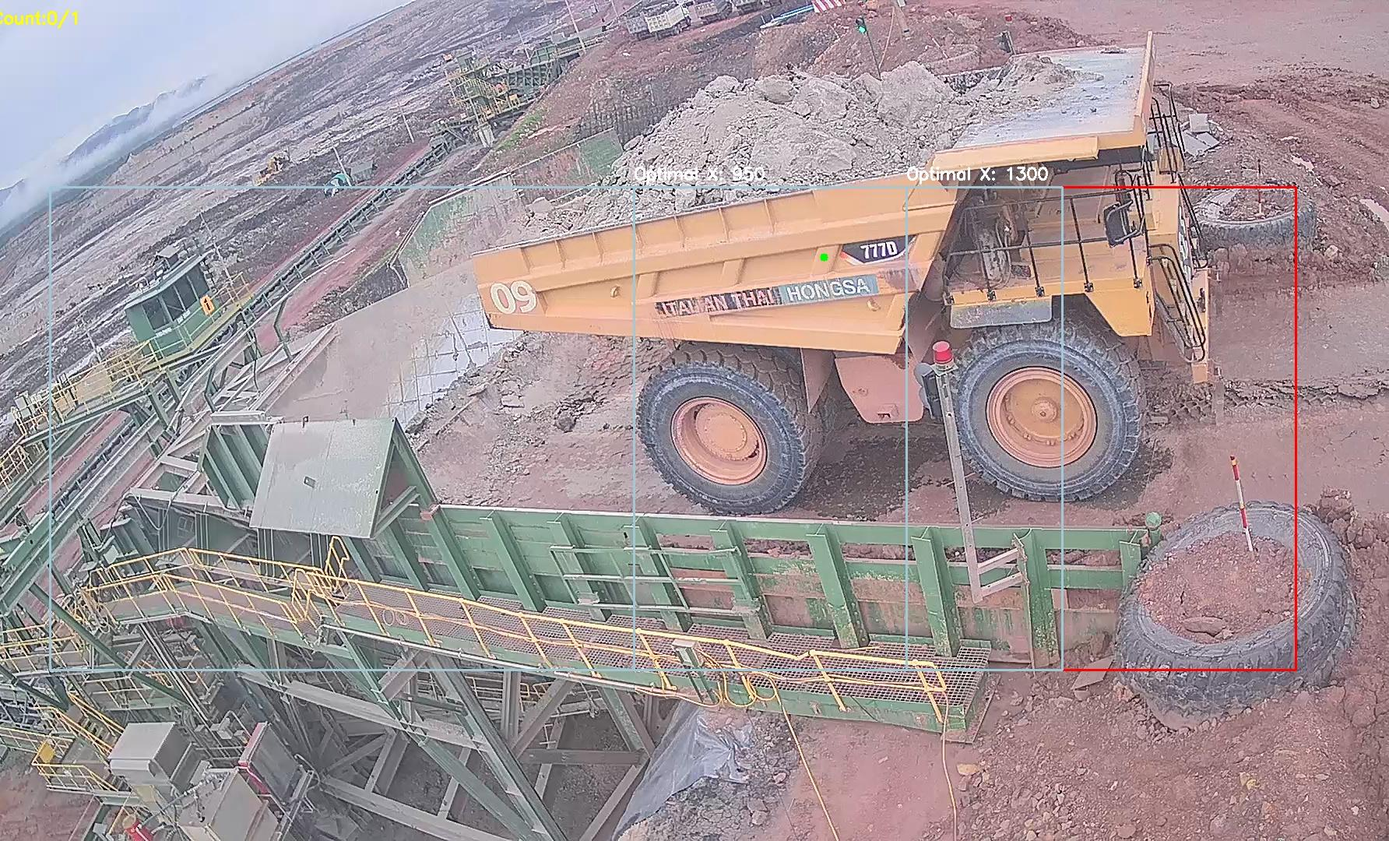company: (650, 269, 881, 320)
full_load: (655, 59, 935, 200)
mining_truck: (469, 32, 1246, 516)
tail_number: (480, 270, 545, 327)
truck_size: (836, 227, 917, 266)
